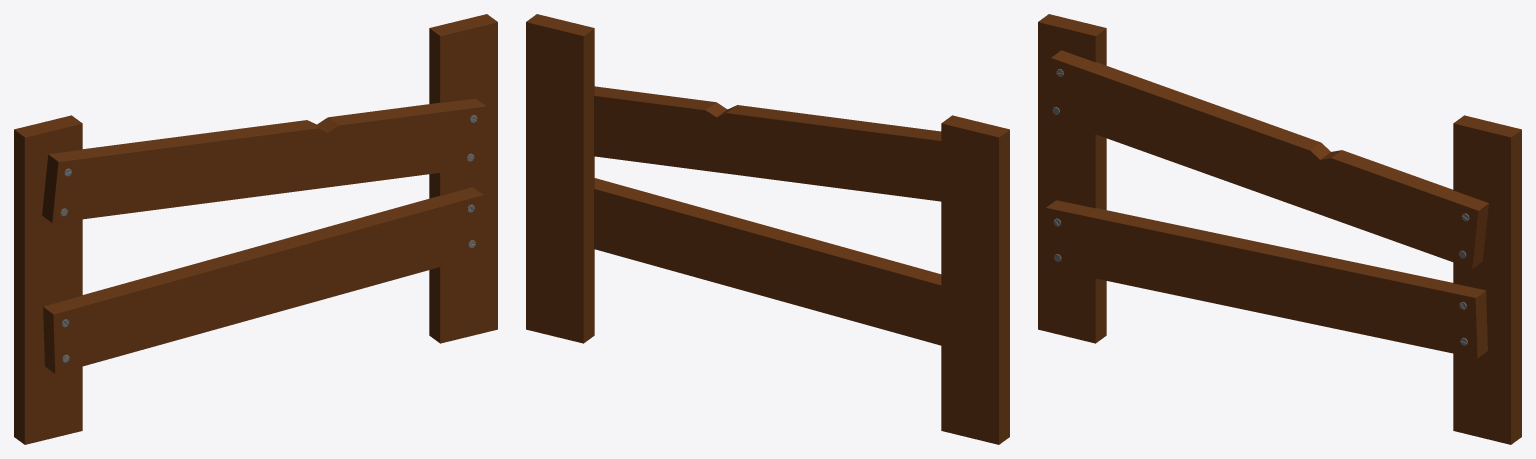
File: fence1.fbx
3 views of the same model, side by side, from view 1: azimuth 30°, elevation 25°; view 2: azimuth 150°, elevation 25°; view 3: azimuth 330°, elevation 25° (orthographic).
Visible parts, largest first — view 1: Fence1; view 2: Fence1; view 3: Fence1.
Boxes of the visible parts, x1,y1,x2,y2 form: Fence1: (14,14,497,444); Fence1: (526,14,1009,444); Fence1: (1038,14,1521,444).
Size of the model in its own units: 351 by 218 by 28.06.
